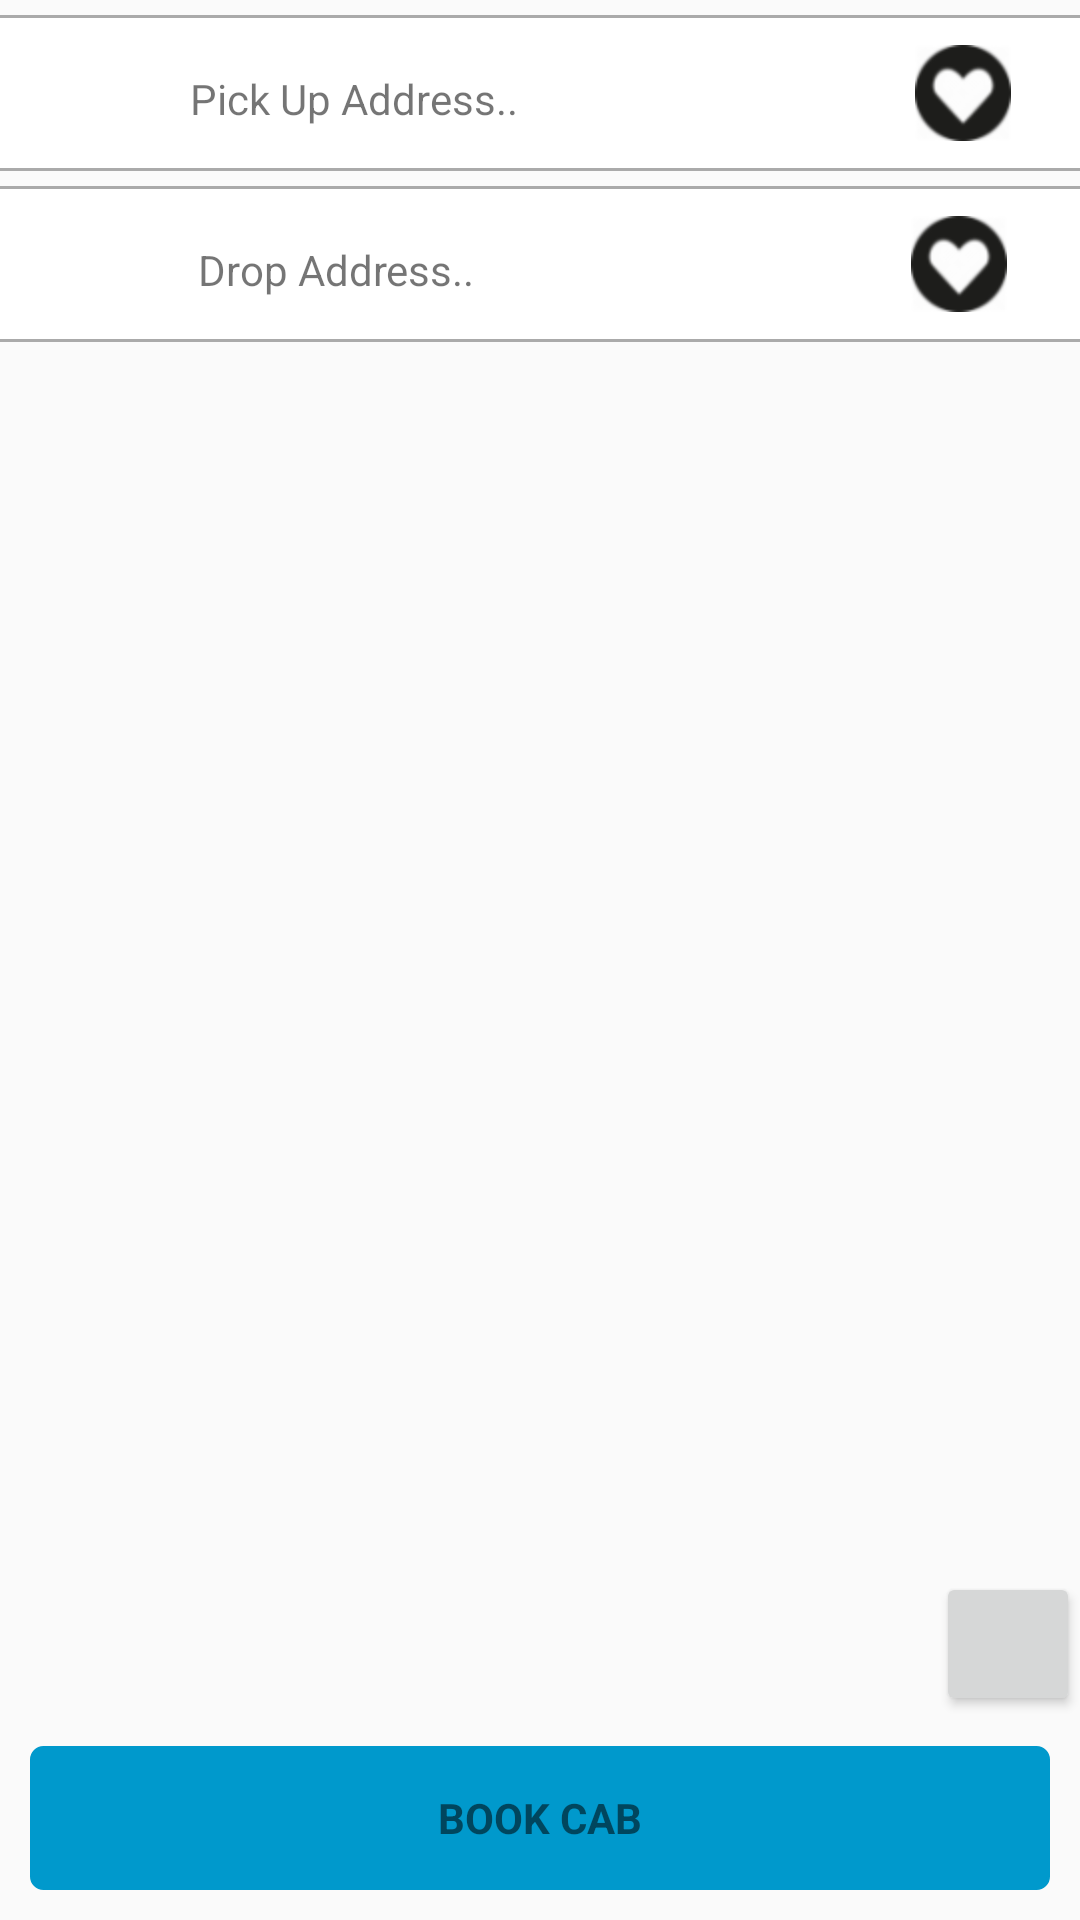

Screen size 1080×1920. Icon name, then its center in pixels as (x,y):
favorite: (963,93), (959,264)
